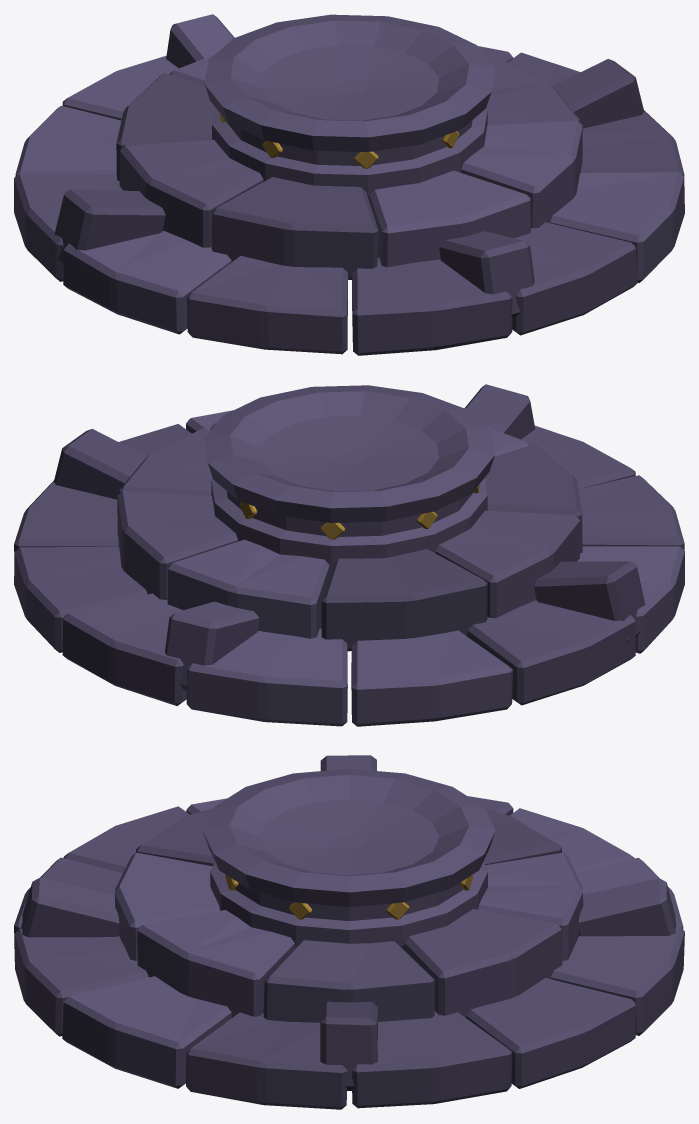
Rendered from pedestal_nexo.fbx.
3 views of the same model, one above another, from view 1: azimuth 30°, elevation 25°; view 2: azimuth 150°, elevation 25°; view 3: azimuth 270°, elevation 25° (orthographic).
Parts seen in each view (by area): view 1: pedestal_nexo; view 2: pedestal_nexo; view 3: pedestal_nexo.
Boxes of the visible parts, bbox=[...] form: pedestal_nexo: bbox=[14, 14, 684, 355]; pedestal_nexo: bbox=[14, 384, 684, 726]; pedestal_nexo: bbox=[14, 755, 684, 1109].
Bounding box in the file's own units: 17.85 × 4.31 × 17.88.
